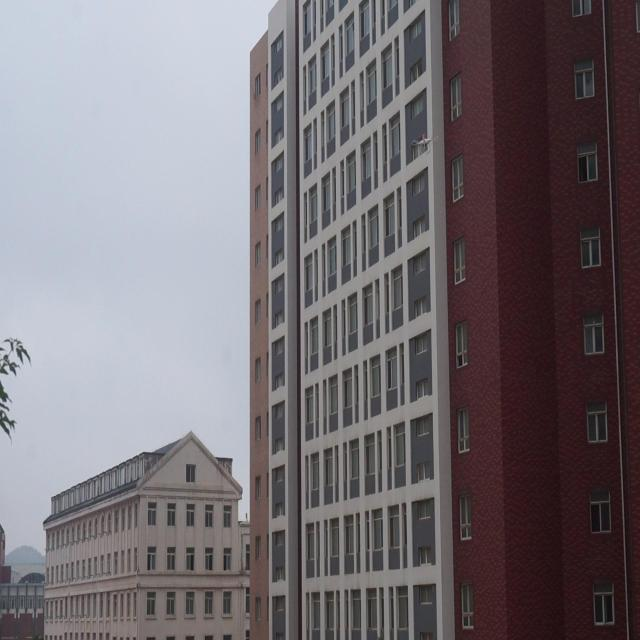drone: (412, 135, 438, 156)
